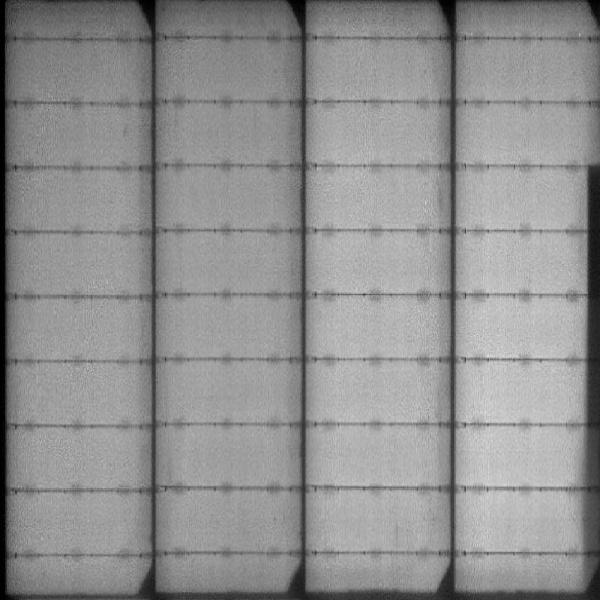black_border: (581, 158, 600, 555)
